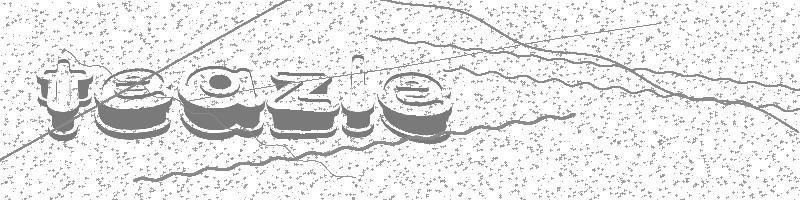a: (177, 63, 267, 141)
e: (375, 64, 458, 147), (94, 63, 174, 140)
l: (337, 51, 380, 138)
t: (36, 52, 96, 140)
z: (265, 64, 340, 123)
